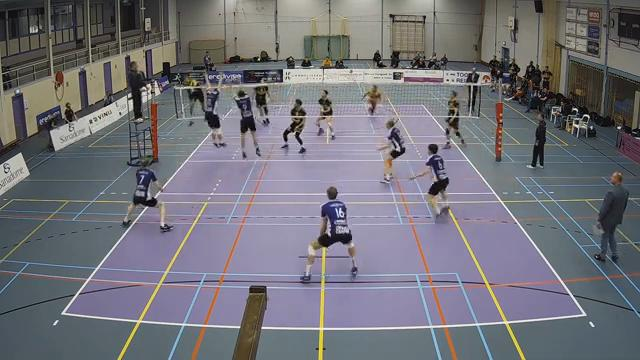attacco: (181, 73, 208, 134)
muro: (226, 77, 265, 163), (196, 70, 228, 153)
